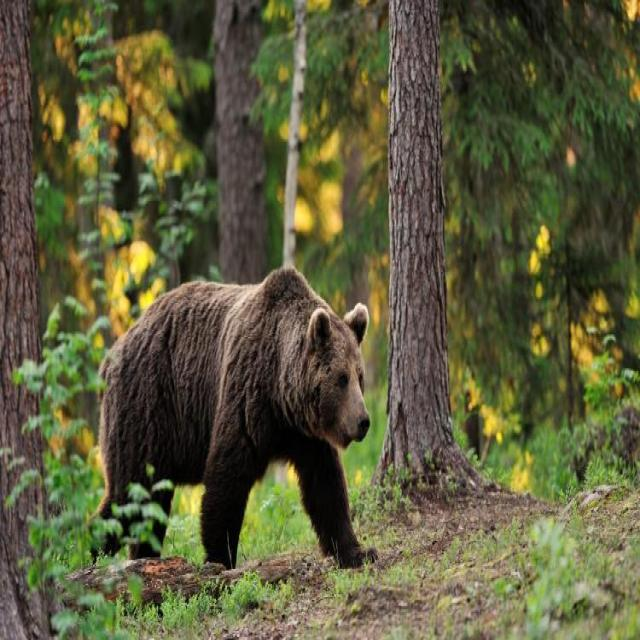Bear: (96, 269, 373, 572)
